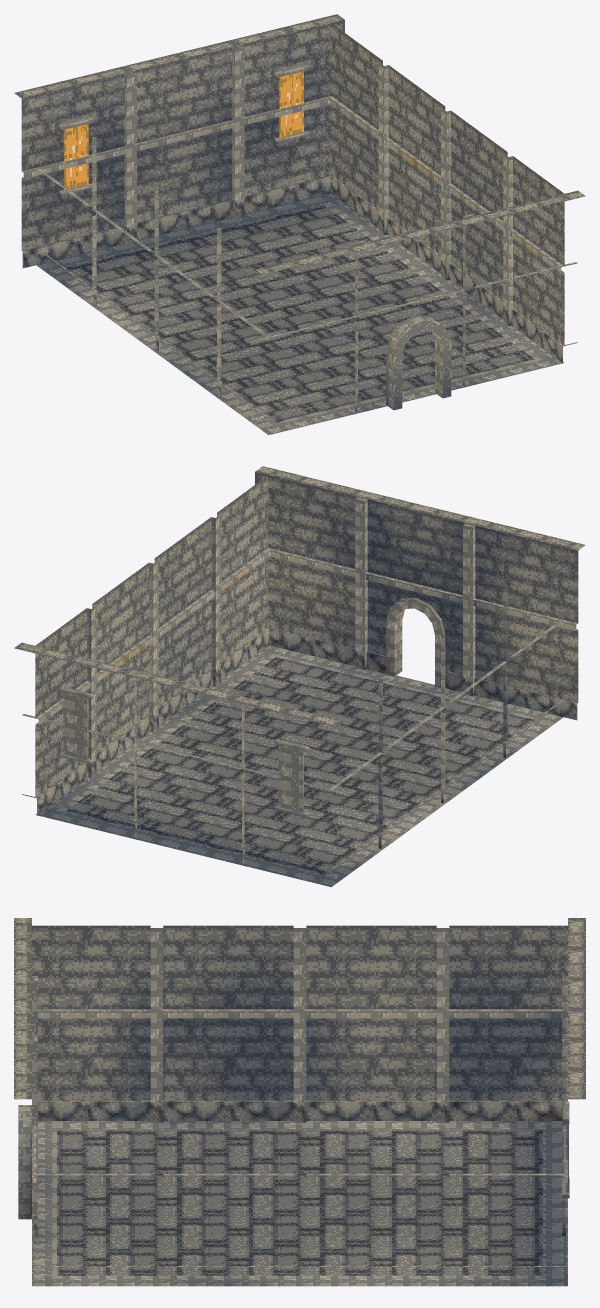
Rendered from cst.hall.glb.
3 renders of one model, top to bottom at view 1: azimuth 30°, elevation 25°; view 2: azimuth 150°, elevation 25°; view 3: azimuth 270°, elevation 25°, orthographic. The views are drawn at different scales.
Parts seen in each view (by area): view 1: kit_shell_walls, kit_shell_floor, kit_fittings; view 2: kit_shell_walls, kit_shell_floor, kit_fittings; view 3: kit_shell_walls, kit_shell_floor, kit_fittings.
Part boxes in pixels (bbox=[...]): kit_shell_walls: bbox=[14, 14, 585, 421]; kit_shell_floor: bbox=[36, 193, 564, 435]; kit_fittings: bbox=[59, 64, 451, 410]; kit_shell_walls: bbox=[14, 466, 585, 873]; kit_shell_floor: bbox=[35, 645, 563, 887]; kit_fittings: bbox=[59, 598, 445, 816]; kit_shell_walls: bbox=[14, 918, 585, 1274]; kit_shell_floor: bbox=[32, 1121, 567, 1286]; kit_fittings: bbox=[18, 1101, 569, 1219].
Size of the model in its own units: 12 by 6 by 16.
Materials: 5 (5 with a texture image).
